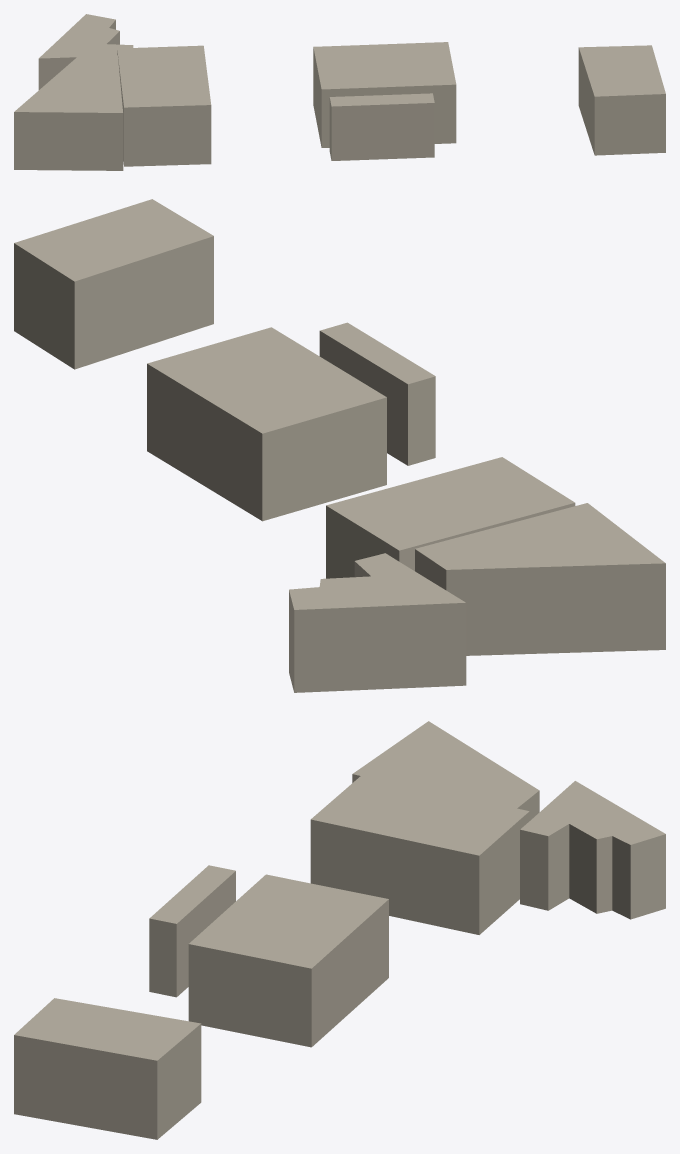
Rendered from kalkara_67_27_collision.glb.
3 views of the same model, one above another, from view 1: azimuth 30°, elevation 25°; view 2: azimuth 150°, elevation 25°; view 3: azimuth 270°, elevation 25° (orthographic). The views are drawn at different scales.
Parts seen in each view (by area): view 1: geometry_0; view 2: geometry_0; view 3: geometry_0.
Boxes of the visible parts, <box> form: geometry_0: <box>14,14,665,170</box>; geometry_0: <box>14,199,665,692</box>; geometry_0: <box>14,721,665,1139</box>.
Bounding box in the file's own units: 111 × 13.89 × 86.42.
